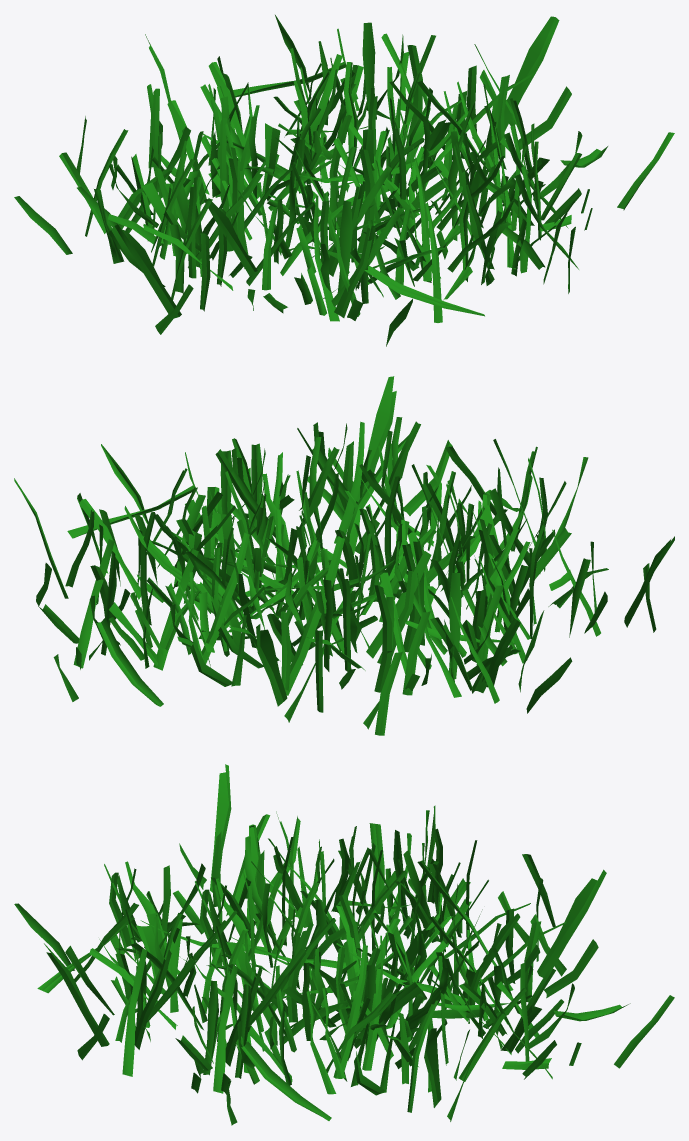
File: Grass 1.fbx
The picture shows the model from 3 angles, top to bottom: view 1: azimuth 30°, elevation 25°; view 2: azimuth 150°, elevation 25°; view 3: azimuth 270°, elevation 25°; orthographic projection. The views are drawn at different scales.
Parts seen in each view (by area): view 1: Sc type A big.001; view 2: Sc type A big.001; view 3: Sc type A big.001.
Part boxes in pixels (box(x1,y1,x2,y2)): Sc type A big.001: box(14, 15, 674, 346); Sc type A big.001: box(14, 376, 674, 735); Sc type A big.001: box(14, 764, 674, 1125).
Bounding box in the file's own units: 4.71 × 4.81 × 1.06.
